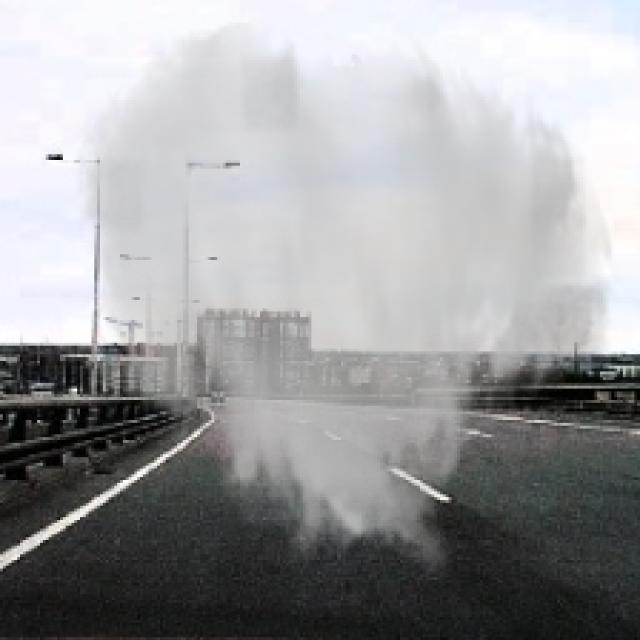smoke: (71, 17, 620, 577)
